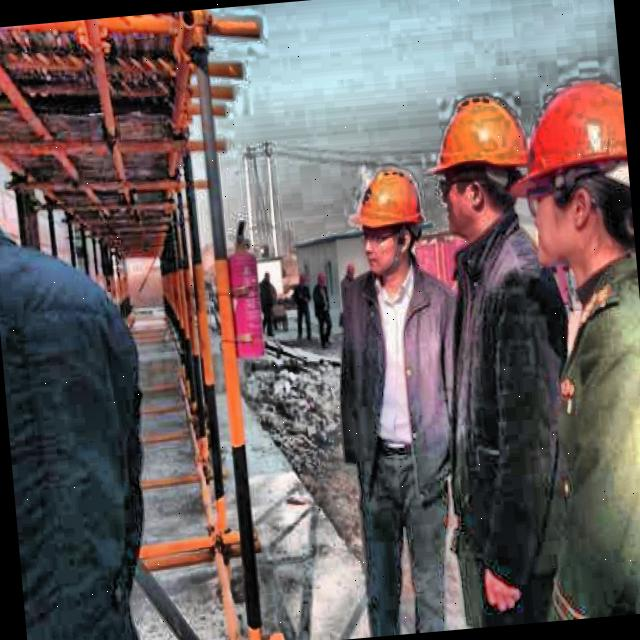helmet: (522, 82, 636, 282), (433, 90, 527, 243), (352, 164, 426, 278)
